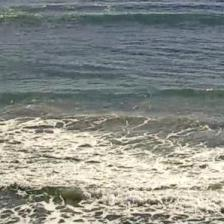surfer: (203, 0, 208, 2)
